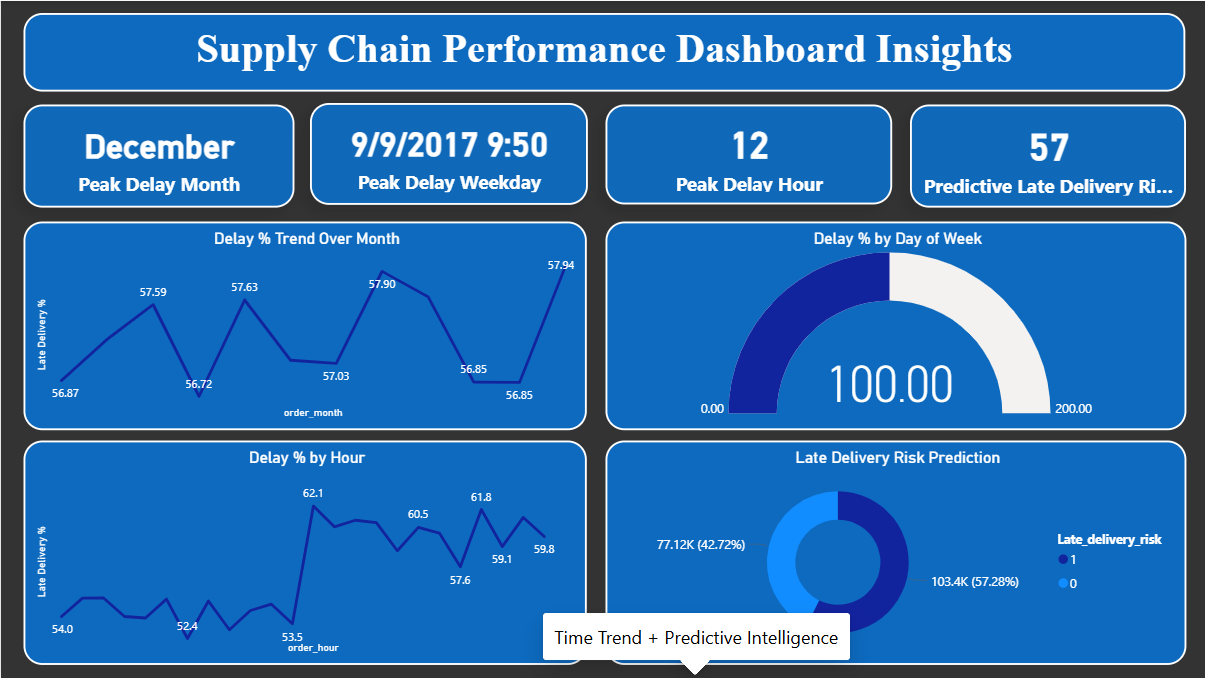

The page's visual inventory and layout, read from the dashboard file:
{"tool":"powerbi","page":{"name":"Time Trend + Predictive Intelligence","canvas":[1280,720],"ordinal":2},"visuals":[{"type":"textbox","box":[24.6,13.2,1232.1,83.2],"z":0},{"type":"card","fields":{"Values":["DataCoSupplyChainDataset.Peak Delay Month"]},"box":[24.6,109.6,287.2,109.6],"z":1},{"type":"card","fields":{"Values":["DataCoSupplyChainDataset.Peak Delay Weekday"]},"box":[326.9,107.7,294.8,107.7],"z":2},{"type":"card","fields":{"Values":["DataCoSupplyChainDataset.Peak Delay Hour"]},"box":[640.6,109.6,304.3,105.8],"z":3},{"type":"card","fields":{"Values":["DataCoSupplyChainDataset.Predictive Late Delivery Risk %"]},"box":[963.8,109.6,292.9,109.6],"z":4},{"type":"lineChart","title":"Delay % Trend Over Month","fields":{"Category":["DataCoSupplyChainDataset.order_month"],"Y":["DataCoSupplyChainDataset.Late Delivery %"]},"box":[24.6,234.3,597.2,221.1],"z":5},{"type":"gauge","title":"Delay % by Day of Week","fields":{"Y":["DataCoSupplyChainDataset.Late Delivery %"]},"box":[640.6,234.3,616.1,221.1],"z":6},{"type":"lineChart","title":"Delay % by Hour","fields":{"Category":["DataCoSupplyChainDataset.order_hour"],"Y":["DataCoSupplyChainDataset.Late Delivery %"]},"box":[24.6,466.8,597.2,238.1],"z":7},{"type":"donutChart","title":"Late Delivery Risk Prediction","fields":{"Category":["DataCoSupplyChainDataset.Late_delivery_risk"],"Y":["CountNonNull(DataCoSupplyChainDataset.Order Id)"]},"box":[640.6,466.8,616.1,238.1],"z":8}]}

Visuals, with their boxes in screenshot pixels (x1, y1, x2, y2), scaled from the page's 1280x720 canvas onto the 1205x678 screenshot:
textbox: pyautogui.locateOnScreen(23, 12, 1183, 91)
card - DataCoSupplyChainDataset.Peak Delay Month: pyautogui.locateOnScreen(23, 103, 294, 206)
card - DataCoSupplyChainDataset.Peak Delay Weekday: pyautogui.locateOnScreen(308, 101, 585, 203)
card - DataCoSupplyChainDataset.Peak Delay Hour: pyautogui.locateOnScreen(603, 103, 890, 203)
card - DataCoSupplyChainDataset.Predictive Late Delivery Risk %: pyautogui.locateOnScreen(907, 103, 1183, 206)
"Delay % Trend Over Month" lineChart: pyautogui.locateOnScreen(23, 221, 585, 429)
"Delay % by Day of Week" gauge: pyautogui.locateOnScreen(603, 221, 1183, 429)
"Delay % by Hour" lineChart: pyautogui.locateOnScreen(23, 440, 585, 664)
"Late Delivery Risk Prediction" donutChart: pyautogui.locateOnScreen(603, 440, 1183, 664)
